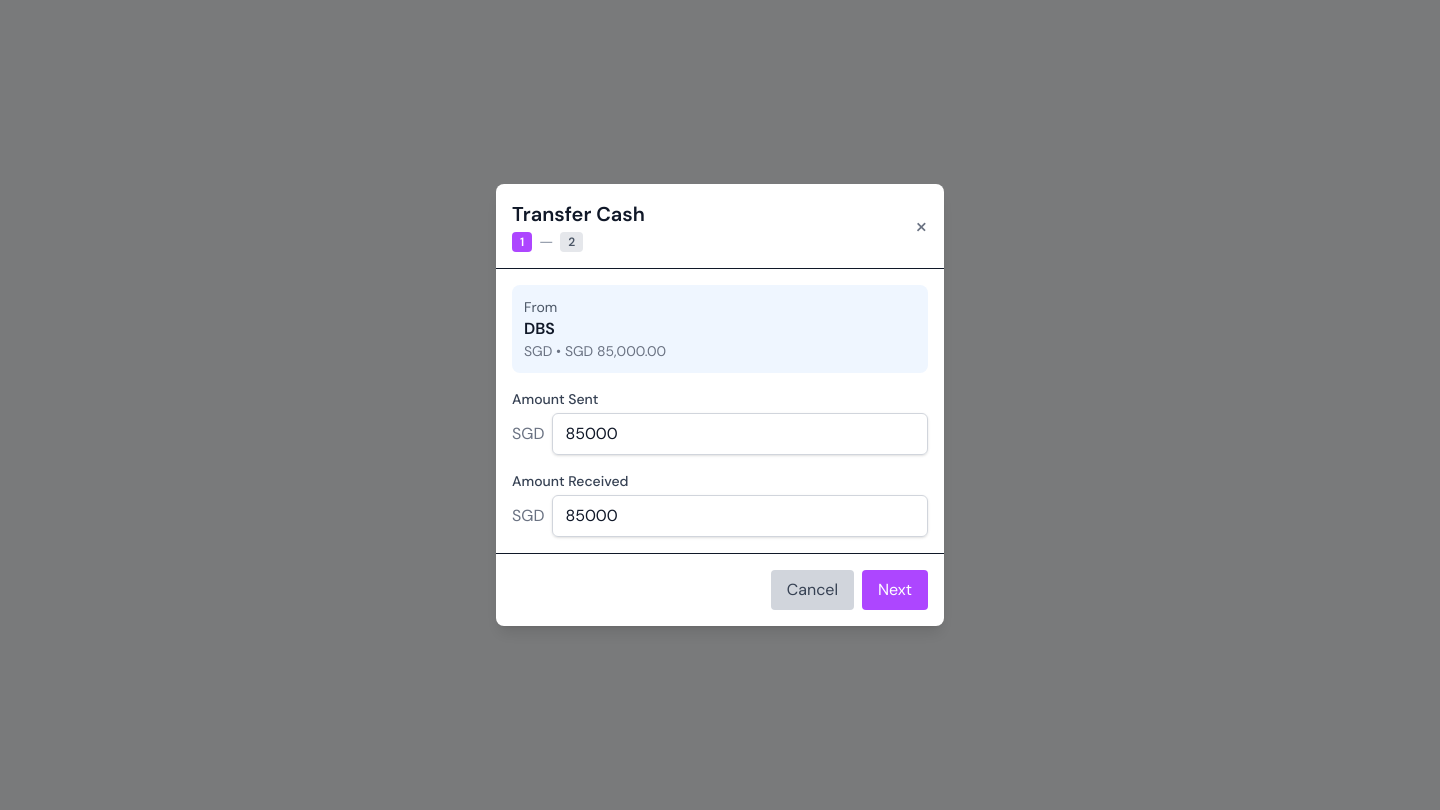
Scenario: CashTransferDialog target step › renders a placeholder for an empty target portfolio so it isn't silently unselected
Step 1 — amounts default to the full balance, so Next is enabled.
Click the button "Next". click: (895, 590)
box: [862,570,928,610]
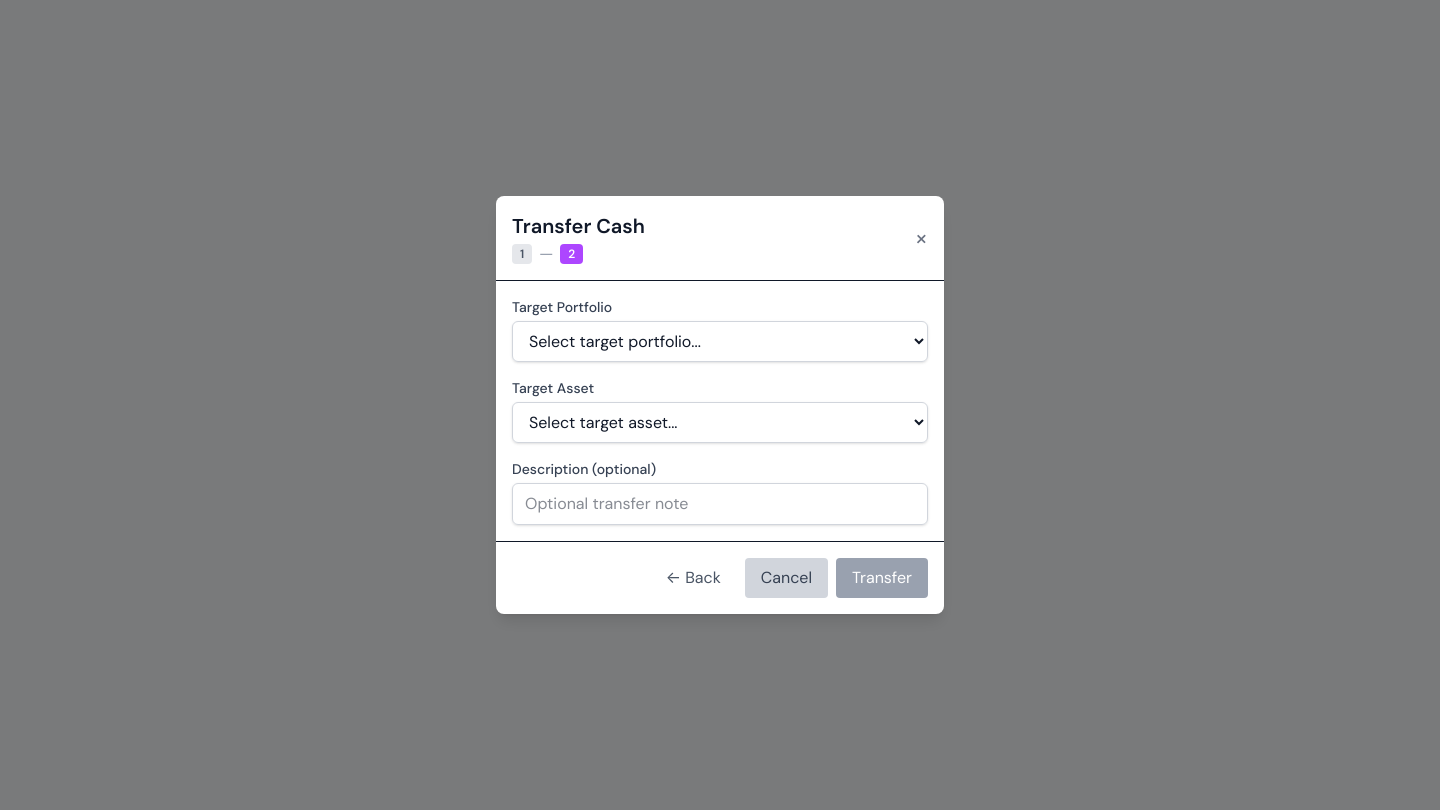
expect the dropdown below "Target Portfolio" shows "Select target portfolio...": met, box [512,321,928,362]
